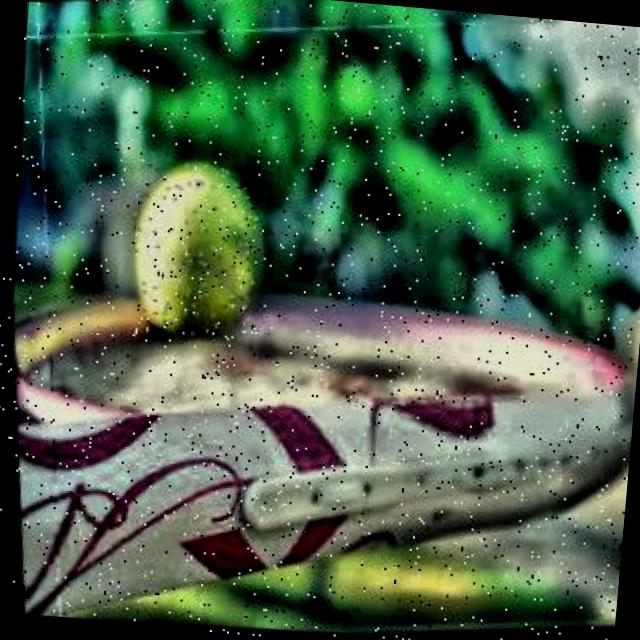Tennis Ball: (111, 150, 278, 352)
